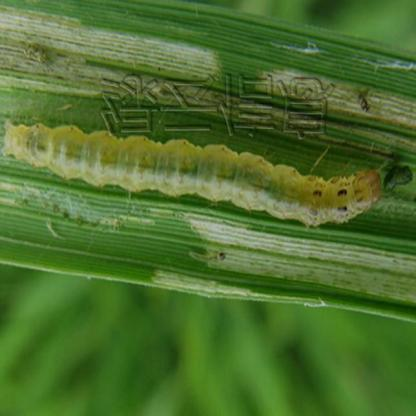leaf-folder: (2, 106, 393, 235), (186, 236, 235, 272)
